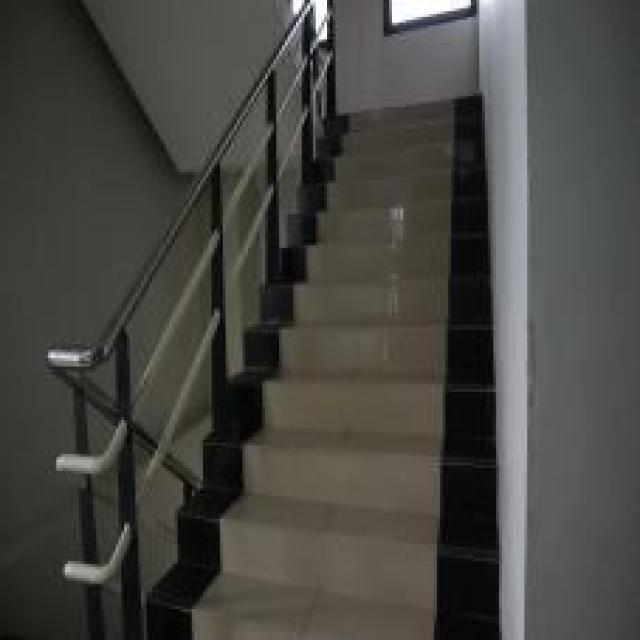upstair: (255, 154, 494, 574)
